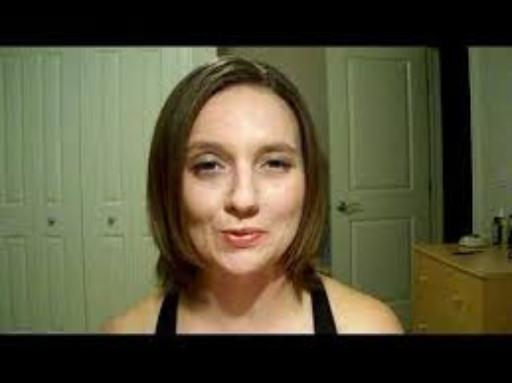left_eye: (260, 160, 297, 175)
left_lip_corner: (261, 228, 275, 240)
right_eye: (191, 162, 227, 176)
right_lip_corner: (214, 227, 229, 240)
